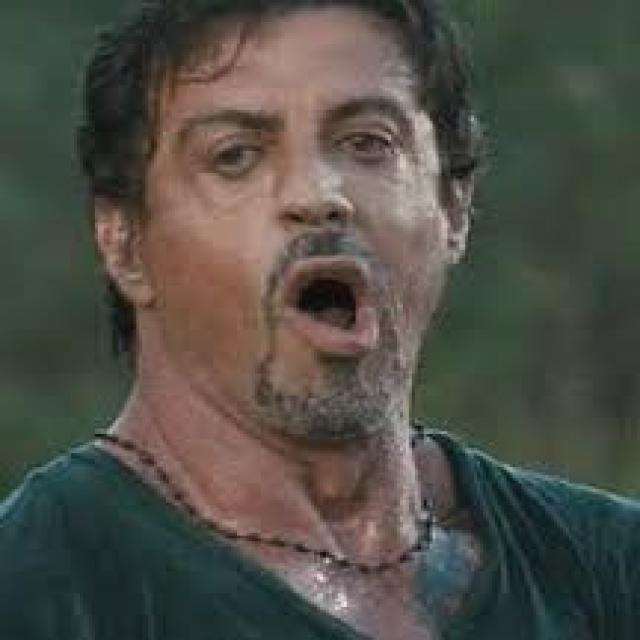stroke_face: (101, 31, 469, 490)
